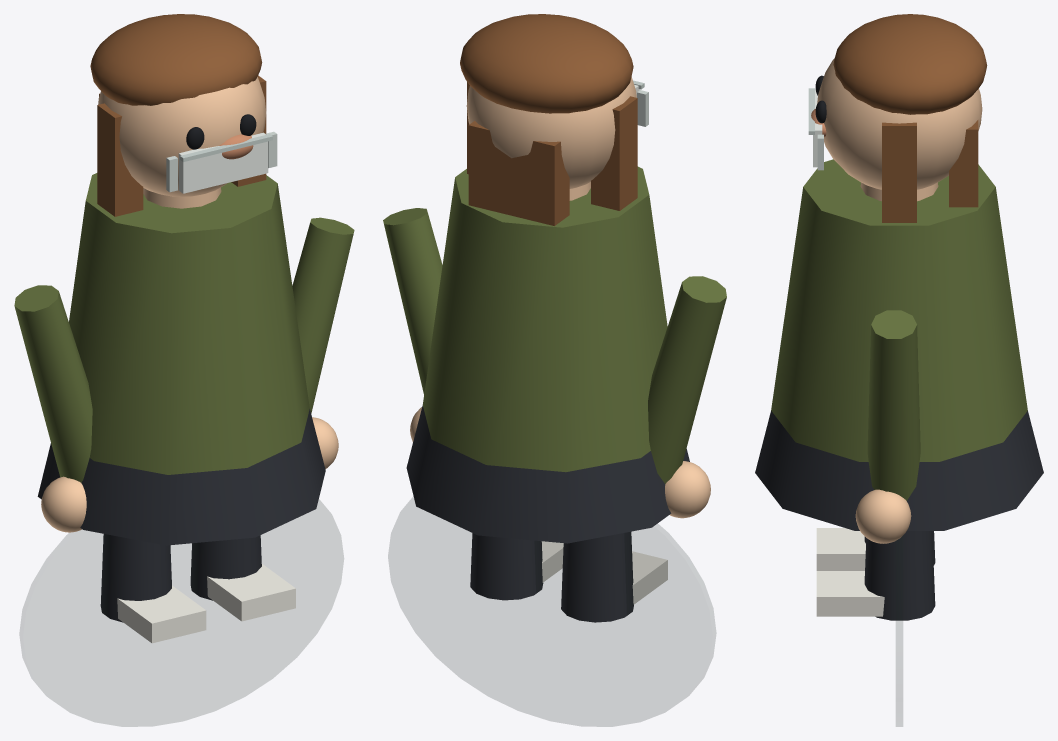
The model's file is customer_09.glb.
3 renders of one model, left to right at view 1: azimuth 30°, elevation 25°; view 2: azimuth 150°, elevation 25°; view 3: azimuth 270°, elevation 25°, orthographic. The views are drawn at different scales.
Parts seen in each view (by area): view 1: torso, contact_shadow, skirt, hair_cap, arm_-0.255, head, arm_0.255, leg_-0.095, side_hair_-0.13, shoe_-0.095, shoe_0.095, leg_0.095 (+5 smaller); view 2: torso, contact_shadow, skirt, hair_cap, arm_-0.255, head, back_hair, arm_0.255, leg_-0.095, leg_0.095, side_hair_-0.13, hand_-0.255 (+2 smaller); view 3: torso, skirt, hair_cap, head, arm_0.255, leg_0.095, side_hair_0.13, shoe_0.095, hand_0.255, shoe_-0.095, back_hair, contact_shadow.
Boxes of the visible parts, box(x1,y1,x2,y2) form: torso: box(69, 173, 309, 474); contact_shadow: box(20, 500, 343, 726); skirt: box(37, 409, 325, 545); hair_cap: box(90, 14, 262, 105); arm_-0.255: box(14, 285, 92, 482); head: box(98, 77, 266, 196); arm_0.255: box(292, 217, 354, 413); leg_-0.095: box(100, 534, 171, 622); side_hair_-0.13: box(97, 103, 143, 216); shoe_-0.095: box(117, 585, 206, 643); shoe_0.095: box(207, 563, 295, 621); leg_0.095: box(190, 535, 261, 600); torso: box(422, 166, 667, 472); contact_shadow: box(388, 497, 715, 726); skirt: box(406, 405, 689, 543); hair_cap: box(460, 14, 633, 113); arm_-0.255: box(648, 276, 726, 483); head: box(466, 77, 636, 188); back_hair: box(468, 121, 569, 225); arm_0.255: box(383, 208, 442, 394); leg_-0.095: box(561, 531, 633, 622); leg_0.095: box(470, 533, 543, 600); side_hair_-0.13: box(591, 96, 637, 210); hand_-0.255: box(665, 461, 710, 518); torso: box(771, 159, 1027, 461); skirt: box(755, 411, 1043, 530); hair_cap: box(833, 14, 987, 114); head: box(817, 58, 982, 189); arm_0.255: box(867, 310, 920, 500); leg_0.095: box(864, 531, 935, 620); side_hair_0.13: box(882, 122, 916, 222); shoe_0.095: box(816, 571, 884, 616); hand_0.255: box(855, 489, 911, 543); shoe_-0.095: box(816, 528, 865, 570); back_hair: box(949, 120, 978, 207); contact_shadow: box(896, 536, 902, 726).
Size of the model in its own units: 0.6765 by 1.34 by 0.5184.
